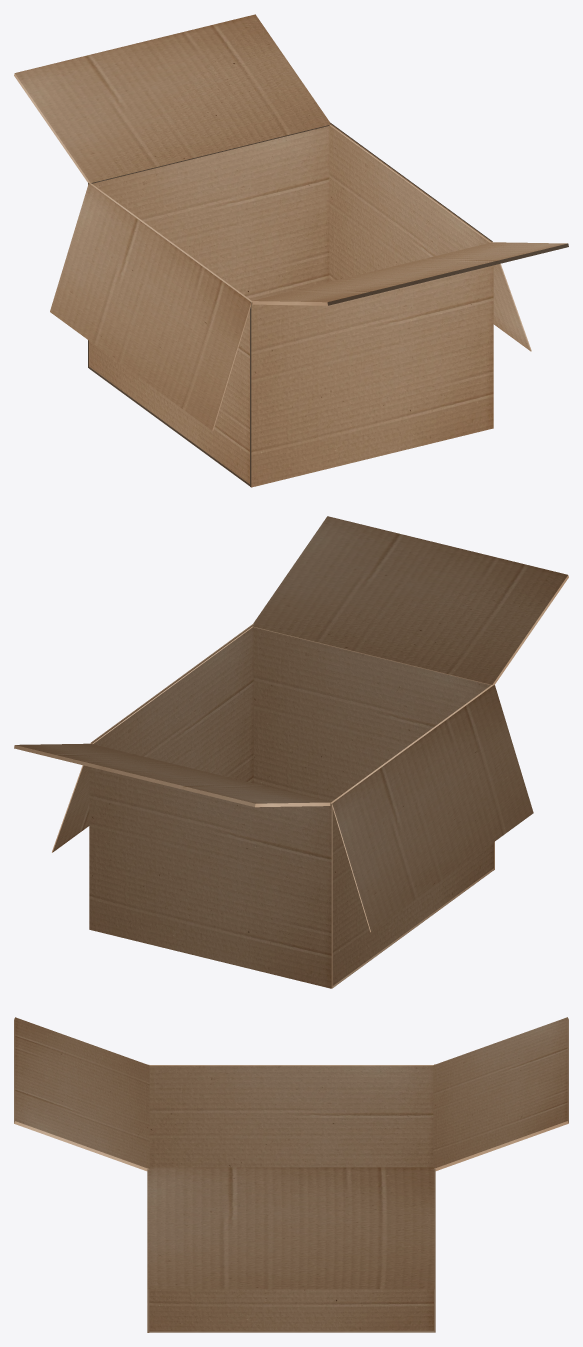
3 renders of one model, top to bottom at view 1: azimuth 30°, elevation 25°; view 2: azimuth 150°, elevation 25°; view 3: azimuth 270°, elevation 25°, orthographic. The views are drawn at different scales.
Parts seen in each view (by area): view 1: obj1, obj9, obj6, obj2, obj4, obj5, obj7, obj8; view 2: obj2, obj7, obj6, obj1, obj4, obj5, obj9, obj8; view 3: obj8, obj5, obj7, obj9, obj4, obj3.
Part boxes in pixels (<box>): obj1: <box>250,265,493,487</box>; obj9: <box>14,14,330,183</box>; obj6: <box>50,184,250,430</box>; obj2: <box>88,126,329,367</box>; obj4: <box>329,125,490,281</box>; obj5: <box>89,183,251,483</box>; obj7: <box>251,242,568,305</box>; obj8: <box>329,122,531,351</box>; obj2: <box>89,767,332,988</box>; obj7: <box>252,516,568,684</box>; obj6: <box>332,685,533,932</box>; obj1: <box>253,627,494,869</box>; obj4: <box>92,626,253,783</box>; obj5: <box>331,685,493,986</box>; obj9: <box>14,743,331,807</box>; obj8: <box>52,624,253,852</box>; obj8: <box>147,1167,434,1289</box>; obj5: <box>149,1065,433,1167</box>; obj7: <box>14,1017,149,1171</box>; obj9: <box>433,1017,568,1170</box>; obj4: <box>149,1289,433,1330</box>; obj3: <box>147,1330,434,1332</box>.
Bounding box in the file's own units: 90.69 × 65.09 × 154.
Materials: 1 (1 with a texture image).
